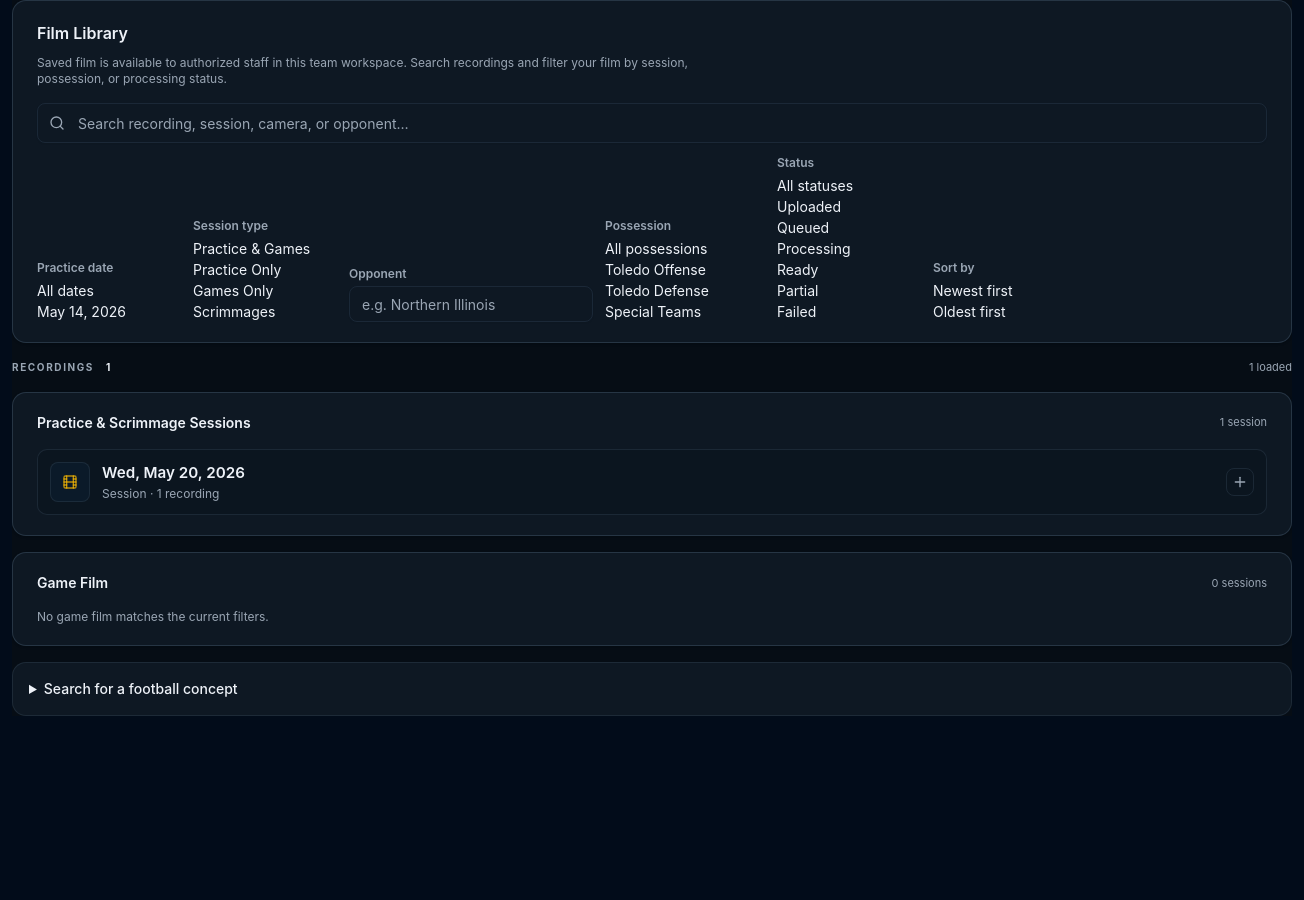
Test: LibraryPage › keeps ungrouped uploads visible and searches camera labels with a recoverable empty state
Expected: the button "Wed, May 20, 2026 Session · 1 recording" is shown, left=38, top=450, right=1266, bottom=514
Type "end zone" into the field named "Search film".
click(652, 123); type("end zone")  # box left=37, top=103, right=1267, bottom=143
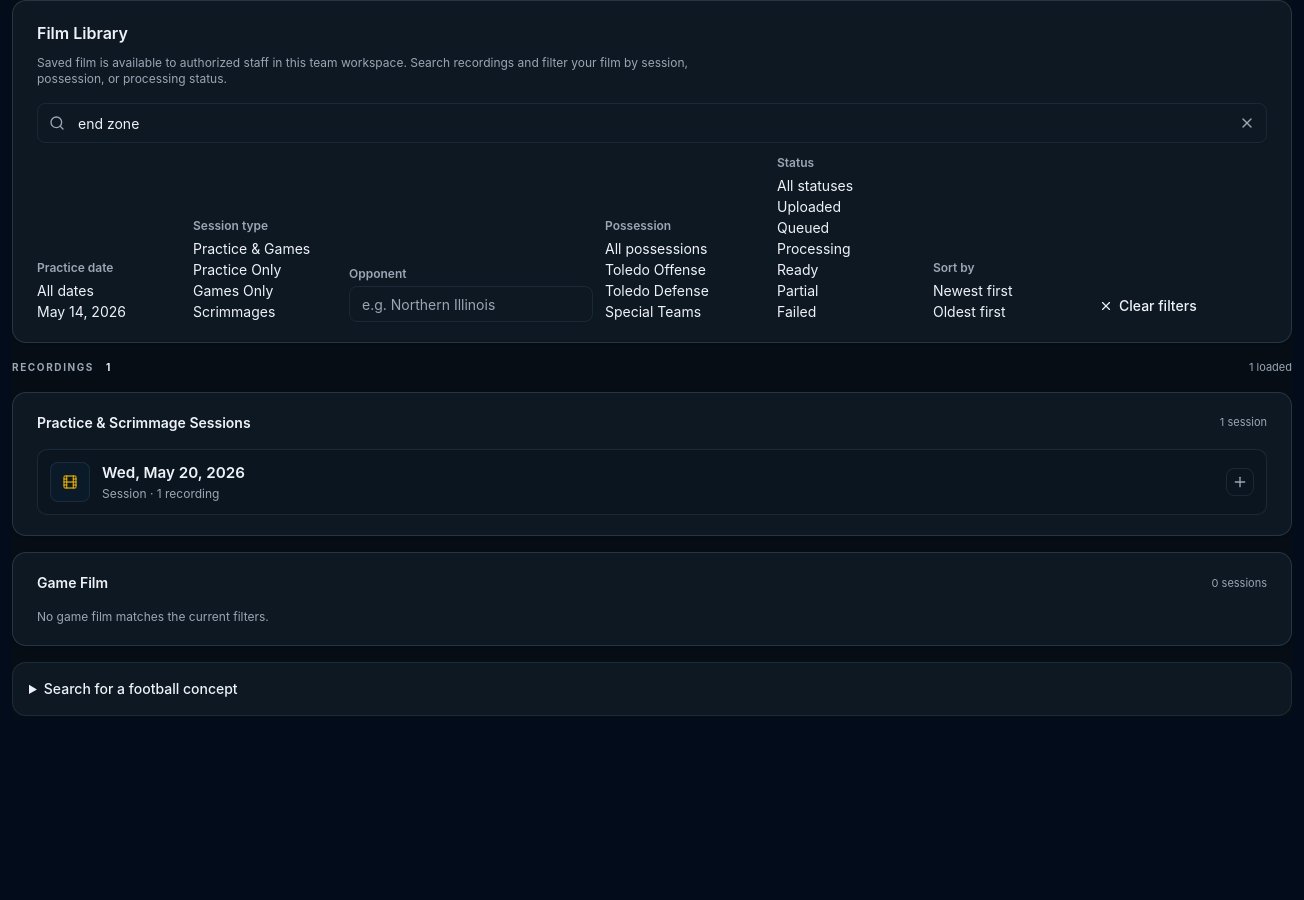
Expected: the text "No film matches these filters" is not shown
Click the button "Wed, May 20, 2026 Session · 1 recording".
click(70, 482)  # box left=38, top=450, right=1266, bottom=514
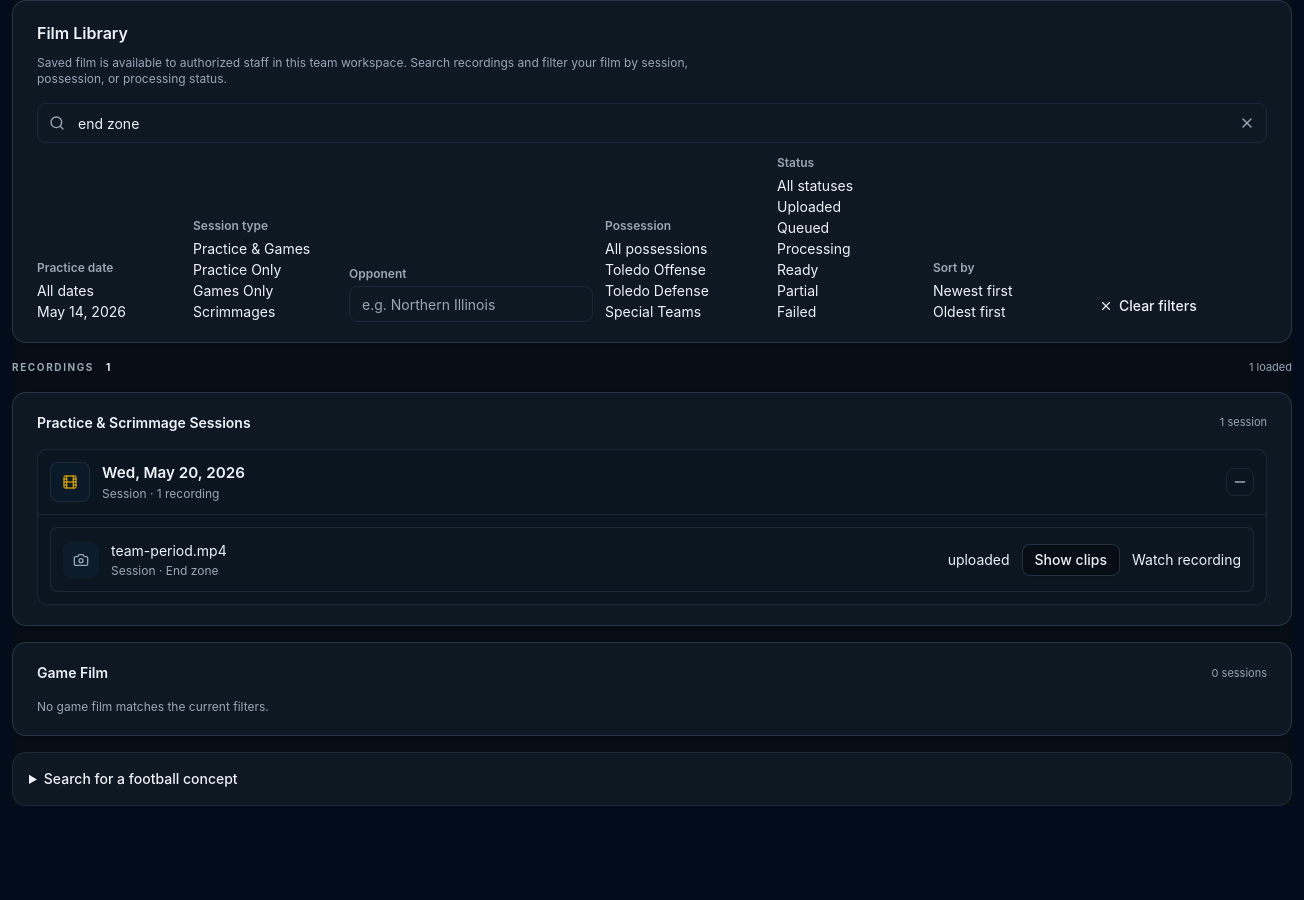
Replace the text in the field named "Search film" with "missing recording" at (652, 123), box left=37, top=103, right=1267, bottom=143
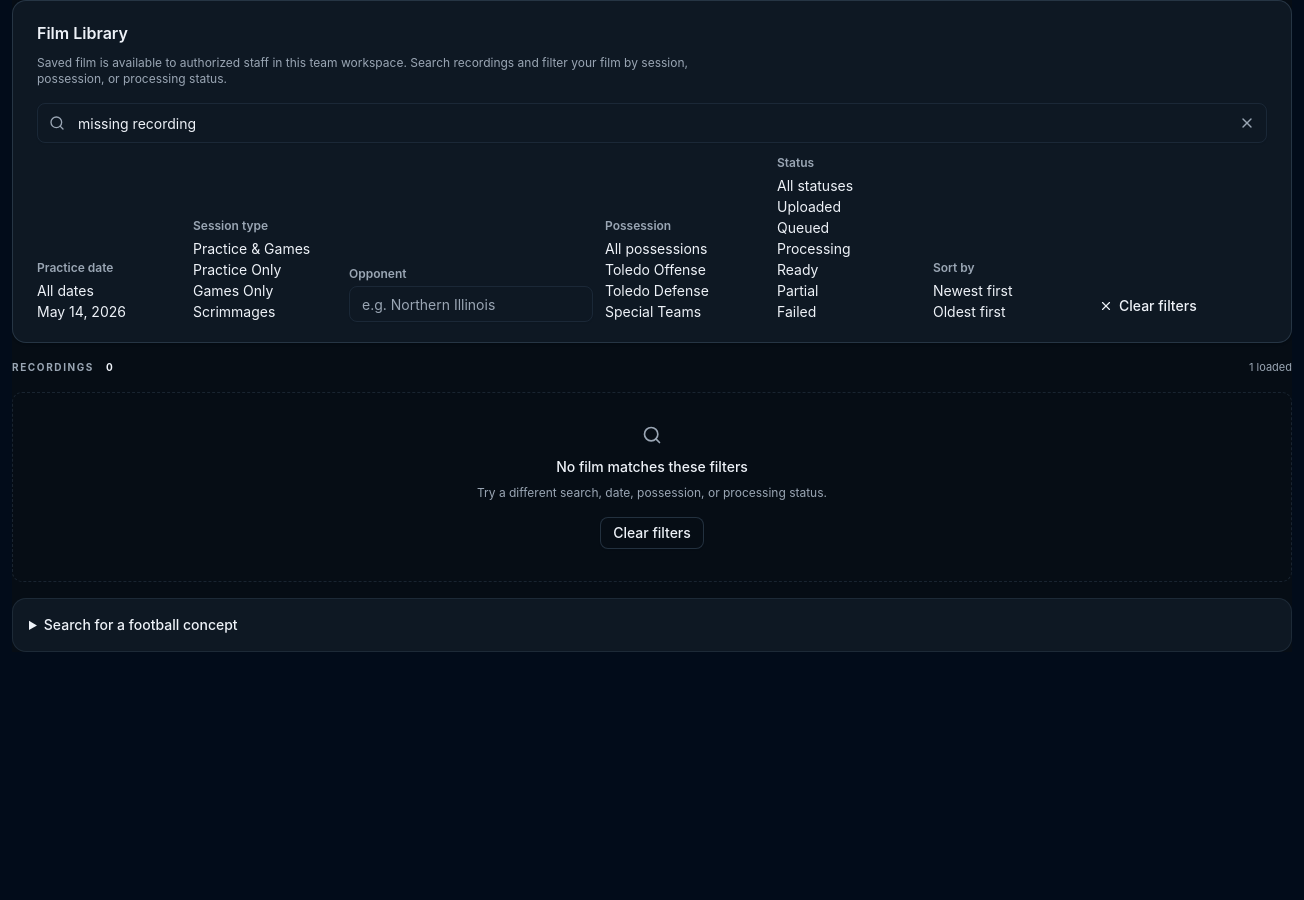
Result: the heading "No film matches these filters" is shown at left=556, top=458, right=748, bottom=474
Click the button "Clear filters" below "Sort by".
click(1148, 306)  # box left=1089, top=290, right=1207, bottom=322
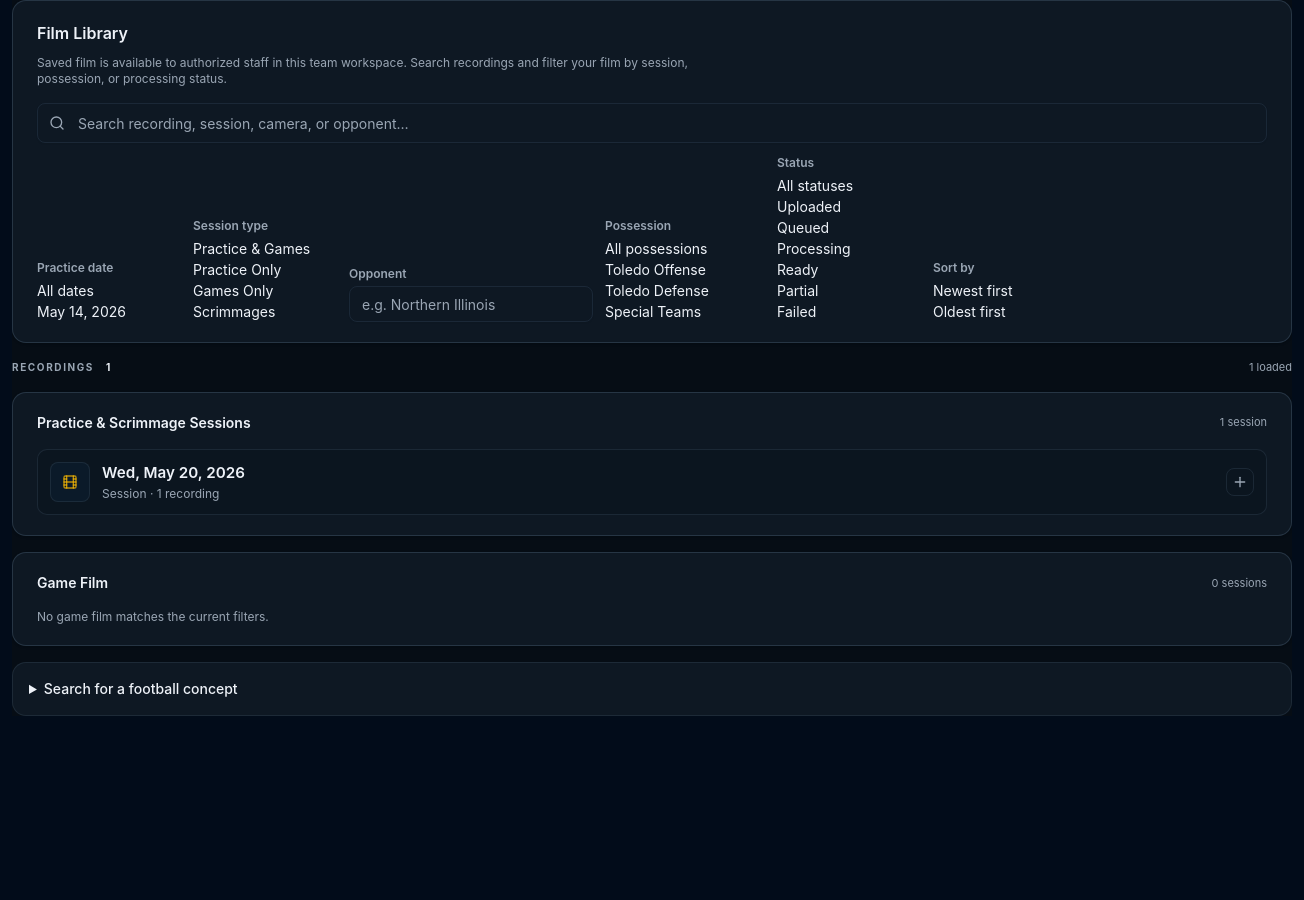
Result: the button "Wed, May 20, 2026 Session · 1 recording" is shown at left=38, top=450, right=1266, bottom=514
Result: the field named "Search film" is empty at left=37, top=103, right=1267, bottom=143
